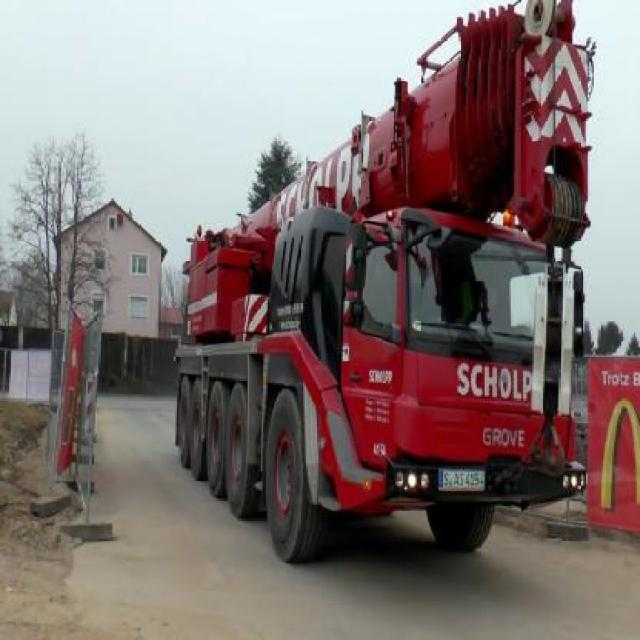Mobile Crane: (177, 1, 591, 565)
